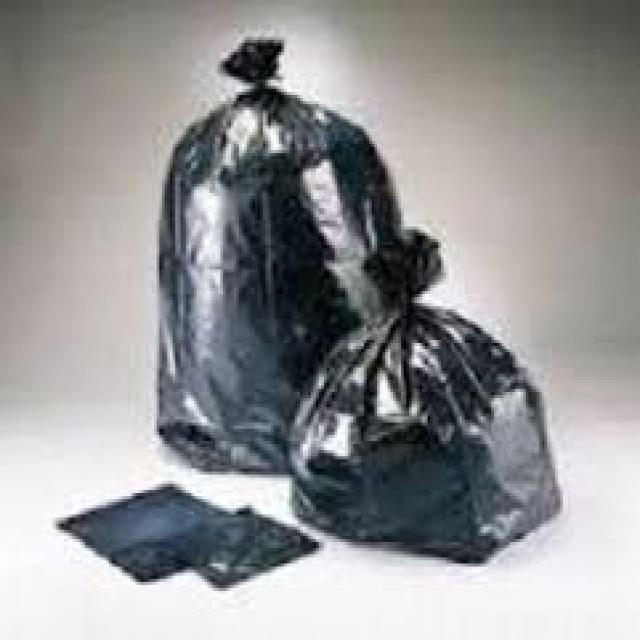plastic_bag: (155, 69, 415, 418), (328, 240, 569, 488)
